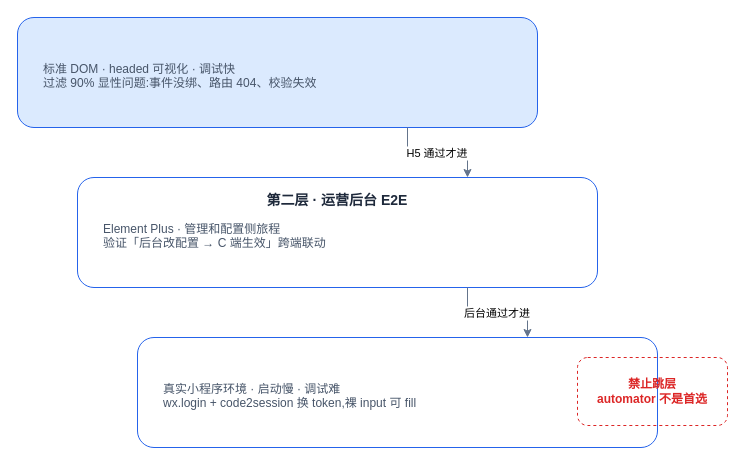
Image size: 745x465. Some labels were removed from this diagram. Here are the shapes that lost their labels. From the top down, the box of each, then its label:
(16, 16, 538, 128): 第一层 · H5 Playwright
(136, 336, 658, 448): 第三层 · 微信小程序 automator
